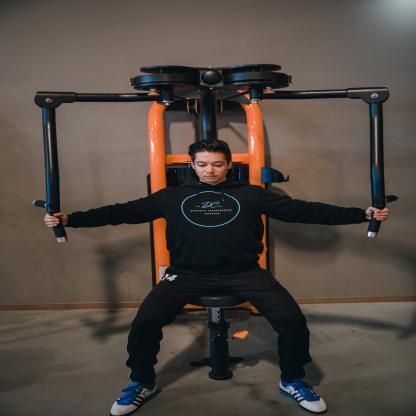chest fly machine: (17, 43, 406, 416)
